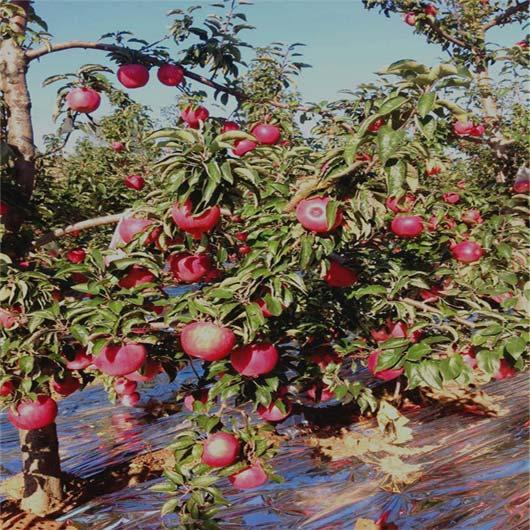apple: (91, 335, 144, 377), (181, 321, 234, 363), (11, 394, 58, 428), (198, 431, 240, 468), (231, 343, 280, 374), (298, 198, 342, 230), (169, 252, 213, 284), (173, 198, 217, 230), (119, 215, 165, 241), (369, 349, 408, 379), (66, 88, 101, 112), (116, 64, 151, 88), (393, 214, 422, 237), (454, 240, 483, 263), (252, 123, 283, 143), (157, 63, 185, 85), (181, 103, 209, 125)
